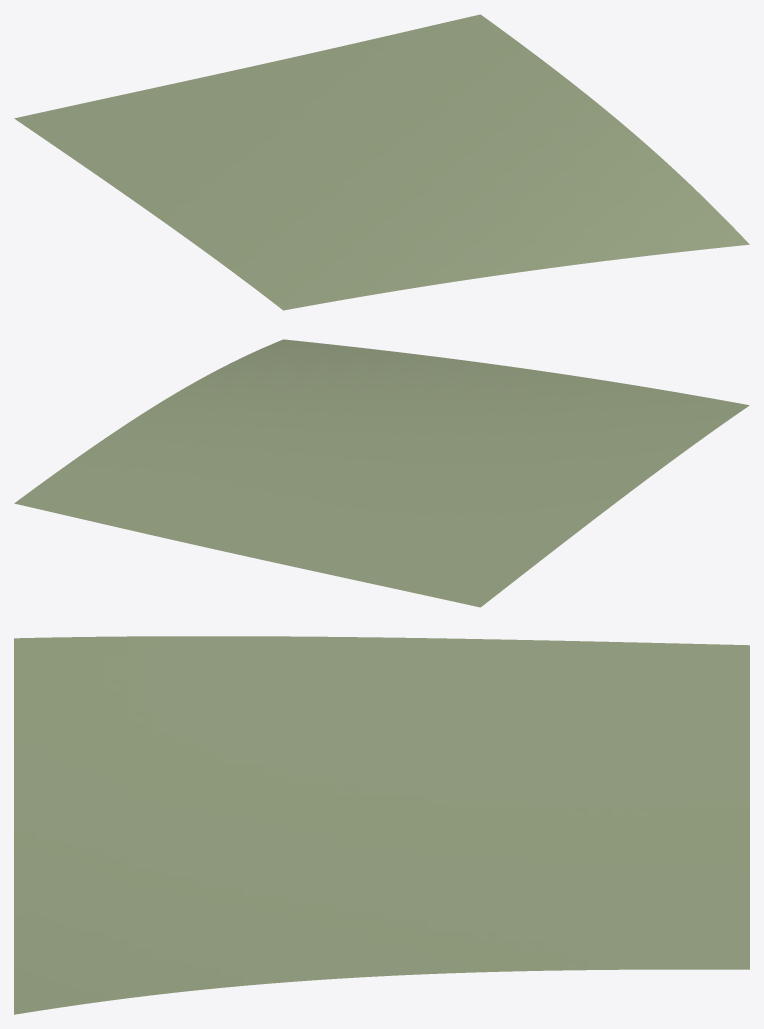
File: expanse-9-20.glb
3 views of the same model, one above another, from view 1: azimuth 30°, elevation 25°; view 2: azimuth 150°, elevation 25°; view 3: azimuth 270°, elevation 25° (orthographic). The views are drawn at different scales.
Parts seen in each view (by area): view 1: expanse-9-20; view 2: expanse-9-20; view 3: expanse-9-20.
Boxes of the visible parts, x1,y1,x2,y2 form: expanse-9-20: (14,14,749,310); expanse-9-20: (14,339,749,607); expanse-9-20: (14,636,749,1014).
Size of the model in its own units: 256 by 25.94 by 256.
